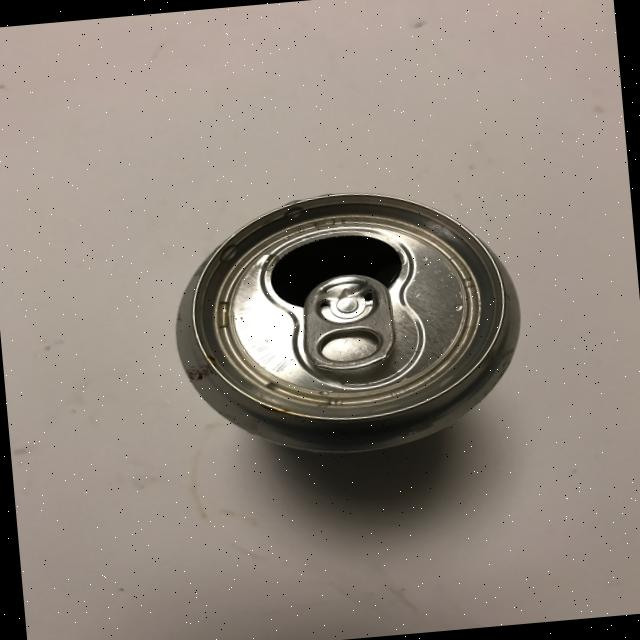metal: (164, 177, 532, 468)
